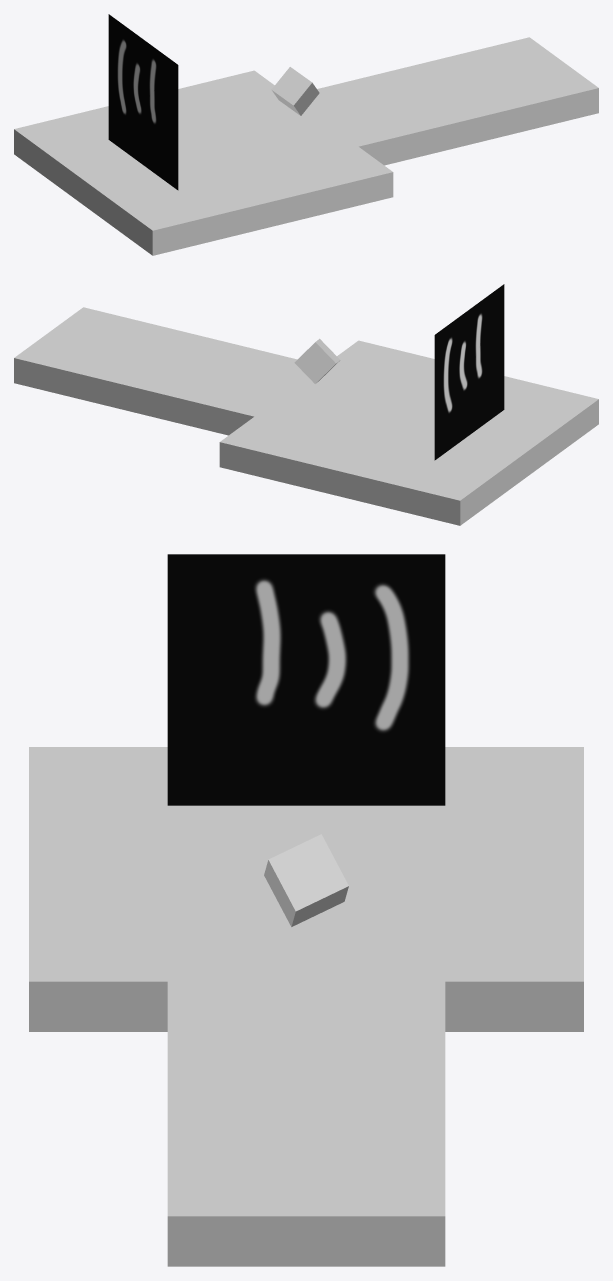
File: walls.glb
3 renders of one model, top to bottom at view 1: azimuth 30°, elevation 25°; view 2: azimuth 150°, elevation 25°; view 3: azimuth 270°, elevation 25°, orthographic. The views are drawn at different scales.
Visible parts, largest first — view 1: walkable_cube, Cube.001, Plane.001, Cube; view 2: walkable_cube, Cube.001, Plane.001, Cube; view 3: walkable_cube, Cube.001, Plane.001, Cube.
Part boxes in pixels (left/top/right/bottom): walkable_cube: left=14, top=70, right=393, bottom=255; Cube.001: left=307, top=37, right=598, bottom=165; Plane.001: left=108, top=14, right=178, bottom=190; Cube: left=271, top=67, right=319, bottom=115; walkable_cube: left=219, top=340, right=598, bottom=525; Cube.001: left=14, top=307, right=307, bottom=435; Plane.001: left=434, top=284, right=504, bottom=460; Cube: left=294, top=338, right=340, bottom=383; walkable_cube: left=29, top=747, right=583, bottom=1031; Cube.001: left=167, top=981, right=445, bottom=1266; Plane.001: left=167, top=554, right=445, bottom=805; Cube: left=264, top=834, right=348, bottom=926.
Size of the model in its own units: 40 by 12 by 20.
1 material, 1 textured.
